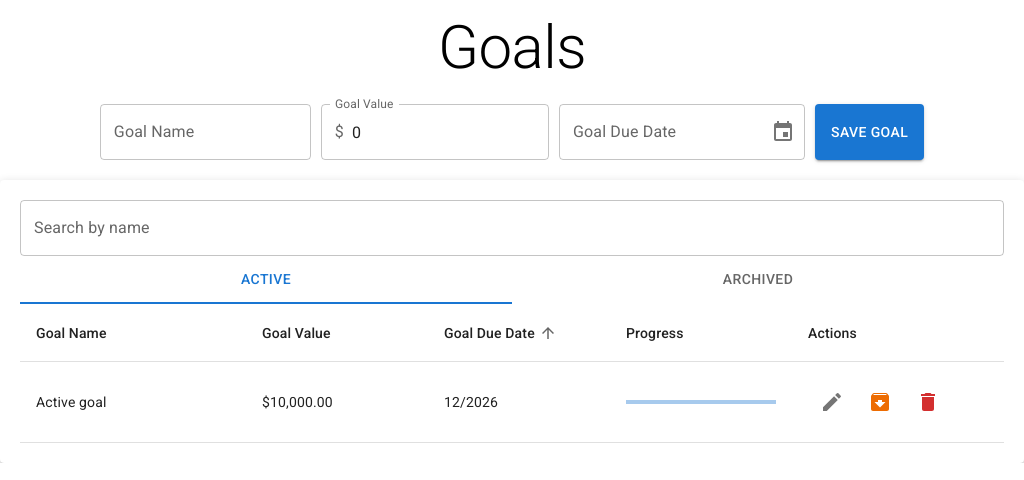
Test case: Goals page › should show archived goals when switching to archived tab
expect the text "Active goal" is shown: met, box [20,362,246,443]
Click the tab "Archived".
click(758, 280)  # box [512,256,1004,304]
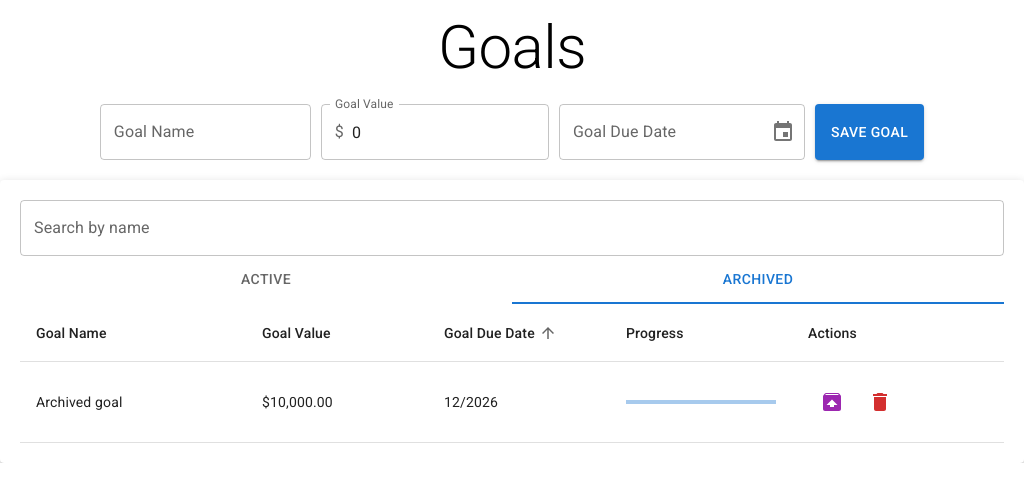
expect the text "Archived goal" is shown: met, box [20,362,246,443]
expect the text "Active goal" is gone: met
